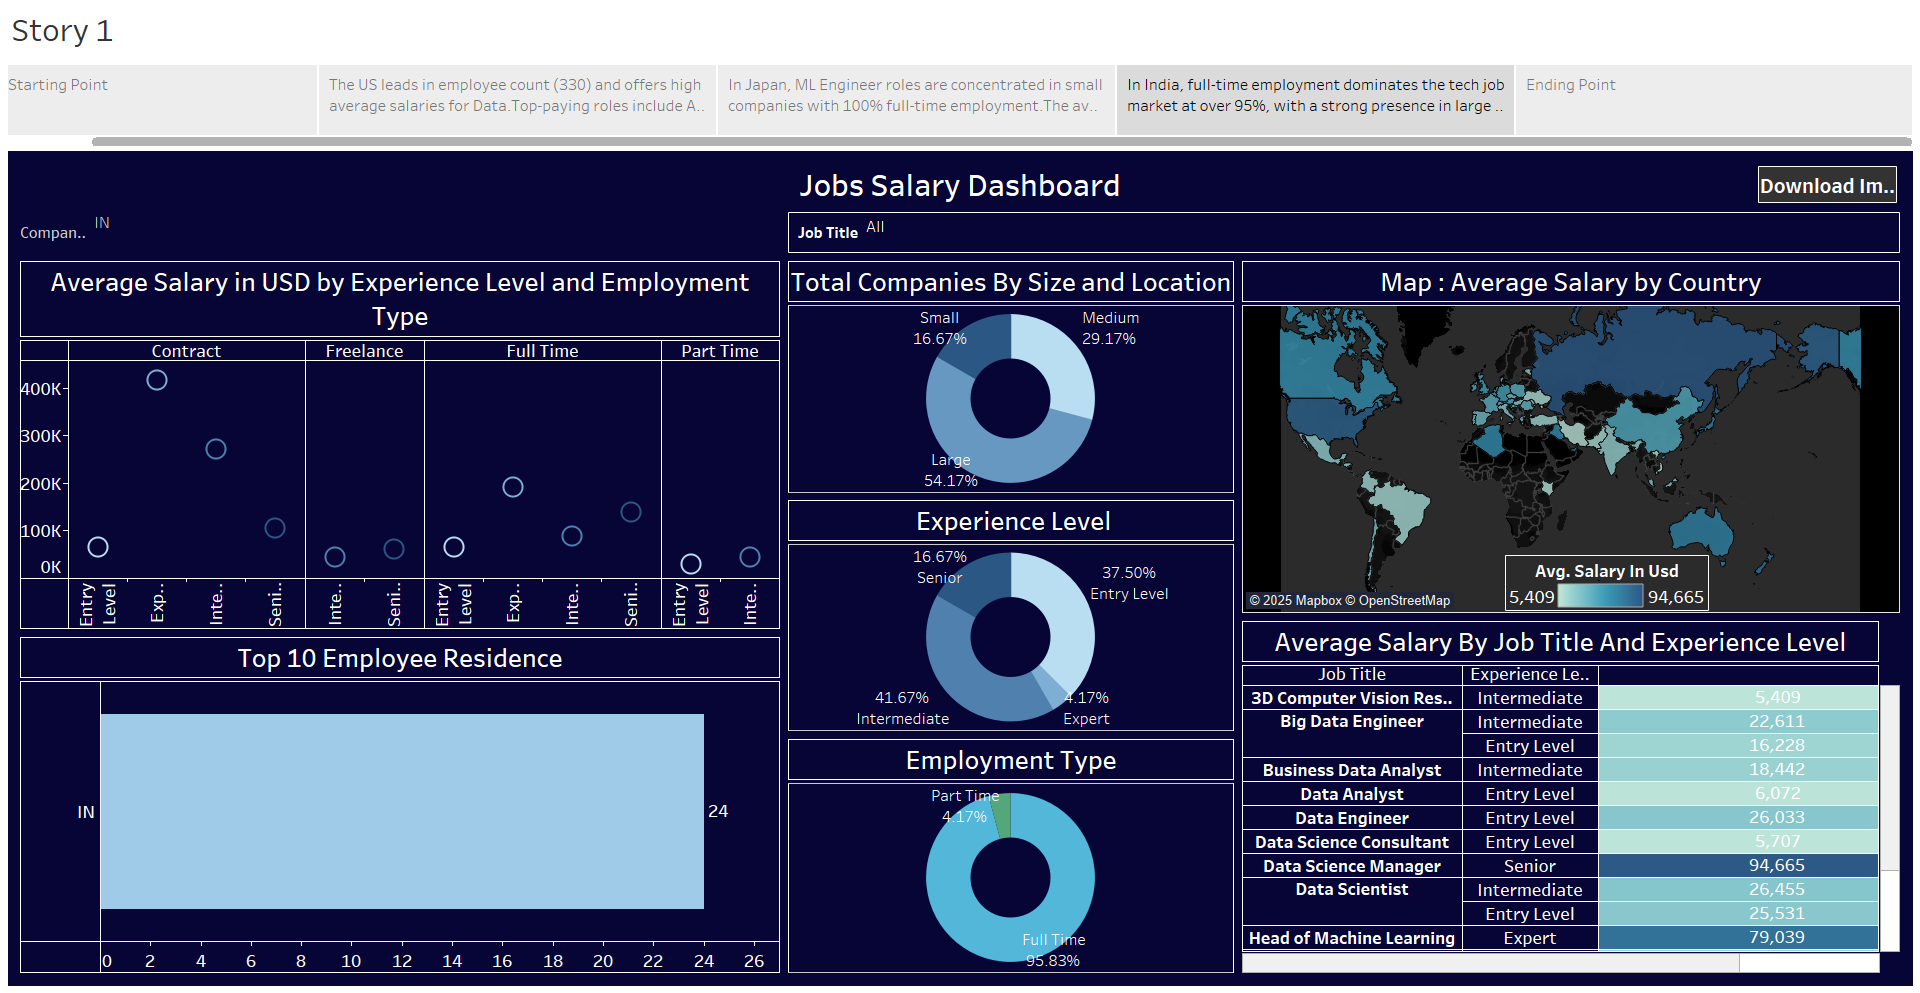

This screenshot's page, from the dashboard's own definition file:
{"tool":"tableau","page":{"name":"Dashboard 1","canvas":[1000,1000],"units":"permille","ordinal":0},"visuals":[{"type":"title","box":[4.8,10,990.3,61.2]},{"type":"dashboard-object","box":[919.1,17.5,73,44.9]},{"type":"filter","title":"Total Companies By Size and Location","param":"[federated.06j91v41yytjut1d6ev5m0dt3v7q].[none:company_location:nk]","box":[4.8,71.2,403.1,58]},{"type":"filter","title":"Map : Average Salary by Country","param":"[federated.06j91v41yytjut1d6ev5m0dt3v7q].[none:job_title:nk]","box":[407.9,71.2,587.3,58]},{"type":"worksheet","title":"Average Salary in USD by Experience Level and Employment Type ","mark":"Shape","rows":["salary_in_usd"],"cols":["employment_type","experience_level"],"box":[4.8,129.2,402.9,449.3]},{"type":"worksheet","title":"Total Companies By Size and Location","mark":"Pie","rows":["Calculation_912823416019795973","Calculation_912823416019812359"],"box":[407.7,129.2,238.1,286.3]},{"type":"worksheet","title":"Map : Average Salary by Country","mark":"Automatic","box":[645.8,129.2,349.3,430.2]},{"type":"worksheet","title":" Experience Level ","mark":"Pie","rows":["Calculation_912823416019795973","Calculation_912823416019812359"],"box":[407.7,415.5,238.1,285.6]},{"type":"legend","title":"Average Salary By Job Title And Experience Level","param":"[federated.06j91v41yytjut1d6ev5m0dt3v7q].[avg:salary_in_usd:qk]","box":[786.4,484.4,106.8,67.4]},{"type":"worksheet","title":"Average Salary By Job Title And Experience Level","mark":"Square","rows":["job_title","experience_level"],"box":[645.8,559.5,349.3,430.6]},{"type":"worksheet","title":"Top 10 Employee Residence","mark":"Automatic","rows":["employee_residence"],"cols":["employee_residence"],"box":[4.8,578.5,402.9,411.5]},{"type":"worksheet","title":"Employment Type","mark":"Pie","rows":["Calculation_912823416019795973","Calculation_912823416019812359"],"box":[407.7,701.1,238.1,288.9]}]}

Visuals, with their boxes on the dashboard's canvas, which has no fixed pixel size, in thousandths of its width and height (x1, y1, x2, y2). These are canvas units, not pixel positions in the 1920x993 screenshot, which may show the page scaled, cropped or inside an application window:
title: pyautogui.locateOnScreen(5, 10, 995, 71)
dashboard-object: pyautogui.locateOnScreen(919, 18, 992, 62)
"Total Companies By Size and Location" filter: pyautogui.locateOnScreen(5, 71, 408, 129)
"Map : Average Salary by Country" filter: pyautogui.locateOnScreen(408, 71, 995, 129)
"Average Salary in USD by Experience Level and Employment Type " worksheet (Shape marks): pyautogui.locateOnScreen(5, 129, 408, 578)
"Total Companies By Size and Location" worksheet (Pie marks): pyautogui.locateOnScreen(408, 129, 646, 416)
"Map : Average Salary by Country" worksheet: pyautogui.locateOnScreen(646, 129, 995, 559)
" Experience Level " worksheet (Pie marks): pyautogui.locateOnScreen(408, 416, 646, 701)
"Average Salary By Job Title And Experience Level" legend: pyautogui.locateOnScreen(786, 484, 893, 552)
"Average Salary By Job Title And Experience Level" worksheet (Square marks): pyautogui.locateOnScreen(646, 560, 995, 990)
"Top 10 Employee Residence" worksheet: pyautogui.locateOnScreen(5, 578, 408, 990)
"Employment Type" worksheet (Pie marks): pyautogui.locateOnScreen(408, 701, 646, 990)
